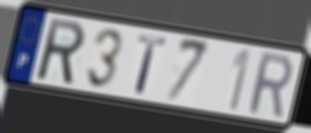1: (227, 47, 253, 114)
3: (85, 28, 125, 90)
7: (165, 34, 213, 106)
R: (36, 15, 87, 88), (246, 50, 294, 121)
T: (133, 33, 170, 97)
